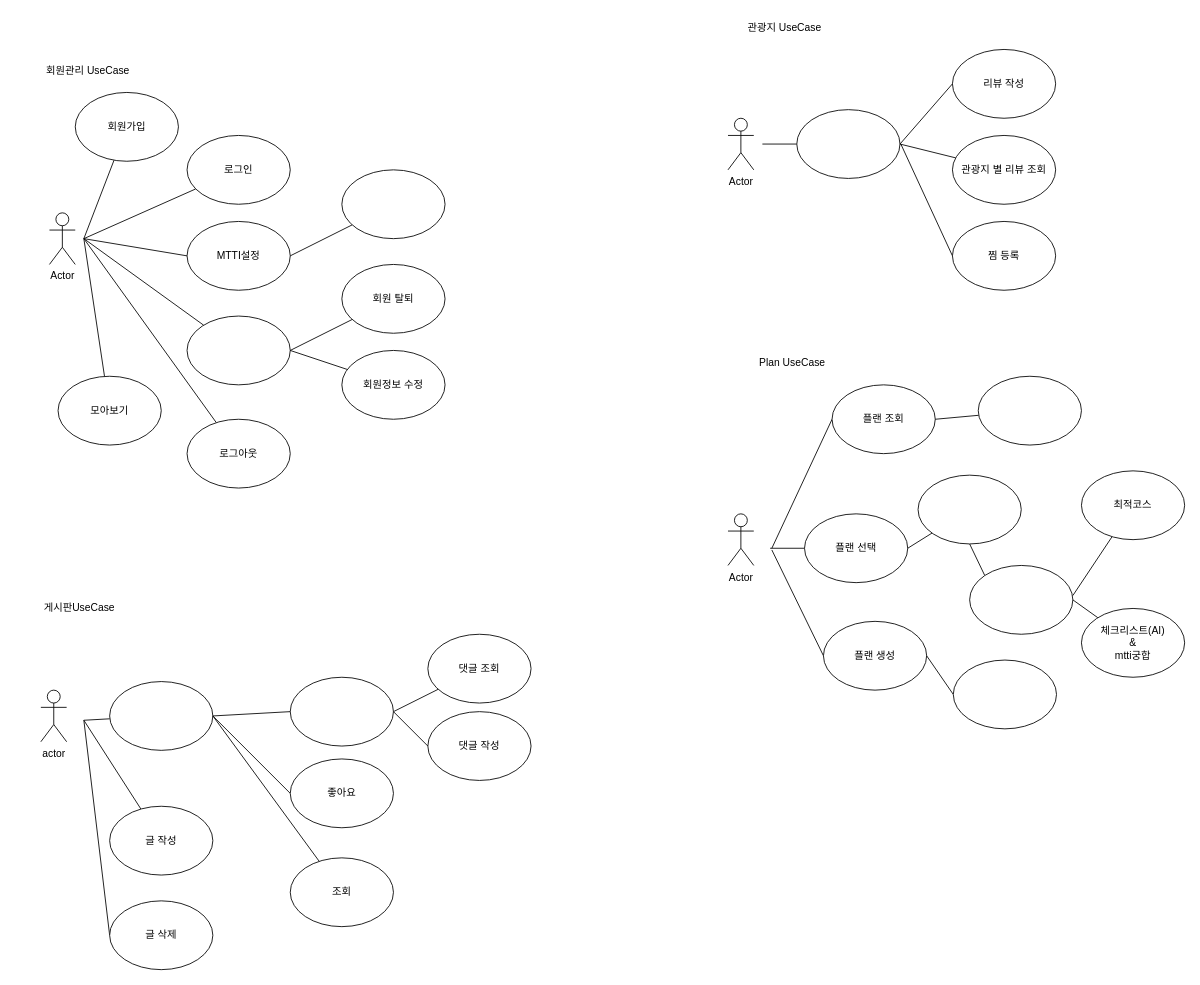
Image size: 1200x985. Some labels were removed from this diagram. Each missing label, with the box of its shape:
검색 & 전체조회: (109, 681, 213, 750)
상세 페이지: (289, 676, 393, 746)
여행 꿀팁(AI): (952, 659, 1057, 729)
일정 짜기: (969, 565, 1073, 634)
찜 리스트 불러오기: (917, 474, 1021, 544)
추천 & 검색: (796, 109, 900, 178)
추천 코스: (341, 169, 445, 239)
플랜 삭제: (977, 375, 1081, 445)
회원 정보: (186, 315, 290, 385)
